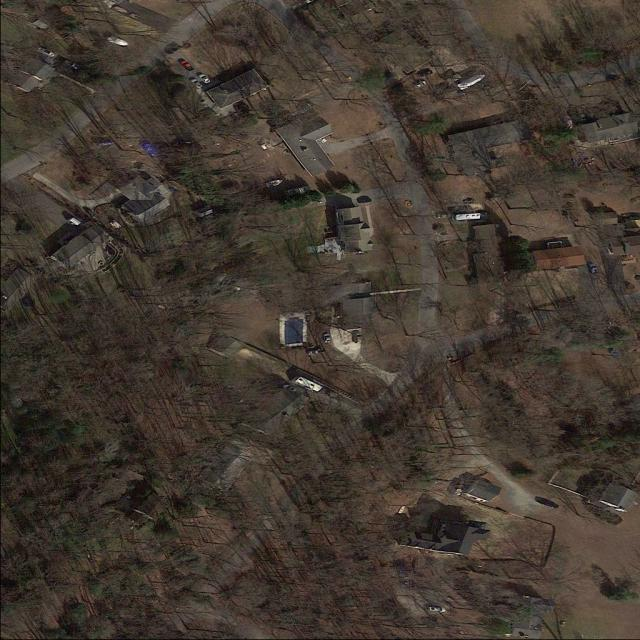ship: (458, 71, 486, 92), (284, 184, 312, 198), (108, 35, 131, 48), (37, 45, 56, 60), (265, 177, 284, 189)
small-vehicle: (296, 377, 323, 392), (538, 497, 560, 511), (385, 81, 404, 97), (165, 42, 181, 56), (84, 205, 98, 220), (179, 58, 194, 72), (446, 72, 462, 85), (64, 59, 81, 70), (325, 389, 340, 401), (198, 72, 212, 84), (417, 69, 434, 78), (282, 384, 297, 394), (356, 195, 372, 204), (190, 78, 203, 89), (588, 261, 599, 274), (414, 80, 428, 90), (432, 213, 451, 219), (354, 330, 362, 344), (606, 73, 620, 81), (430, 606, 446, 612), (307, 349, 319, 356), (324, 333, 331, 344)
